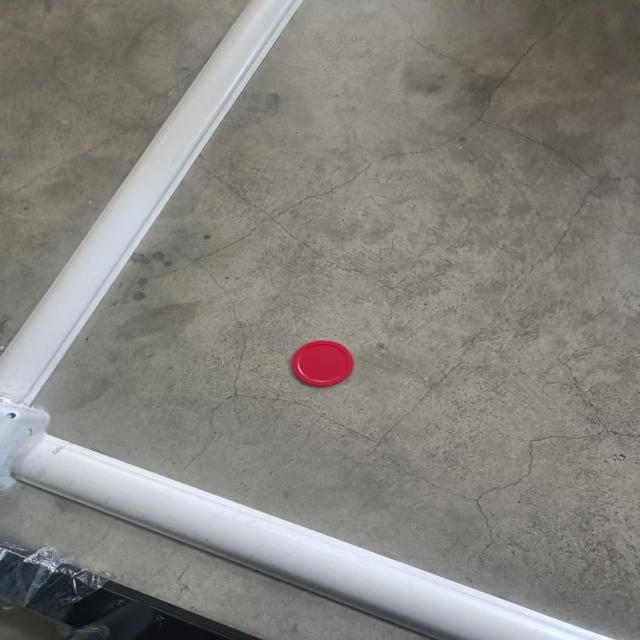chip: (290, 340, 356, 388)
